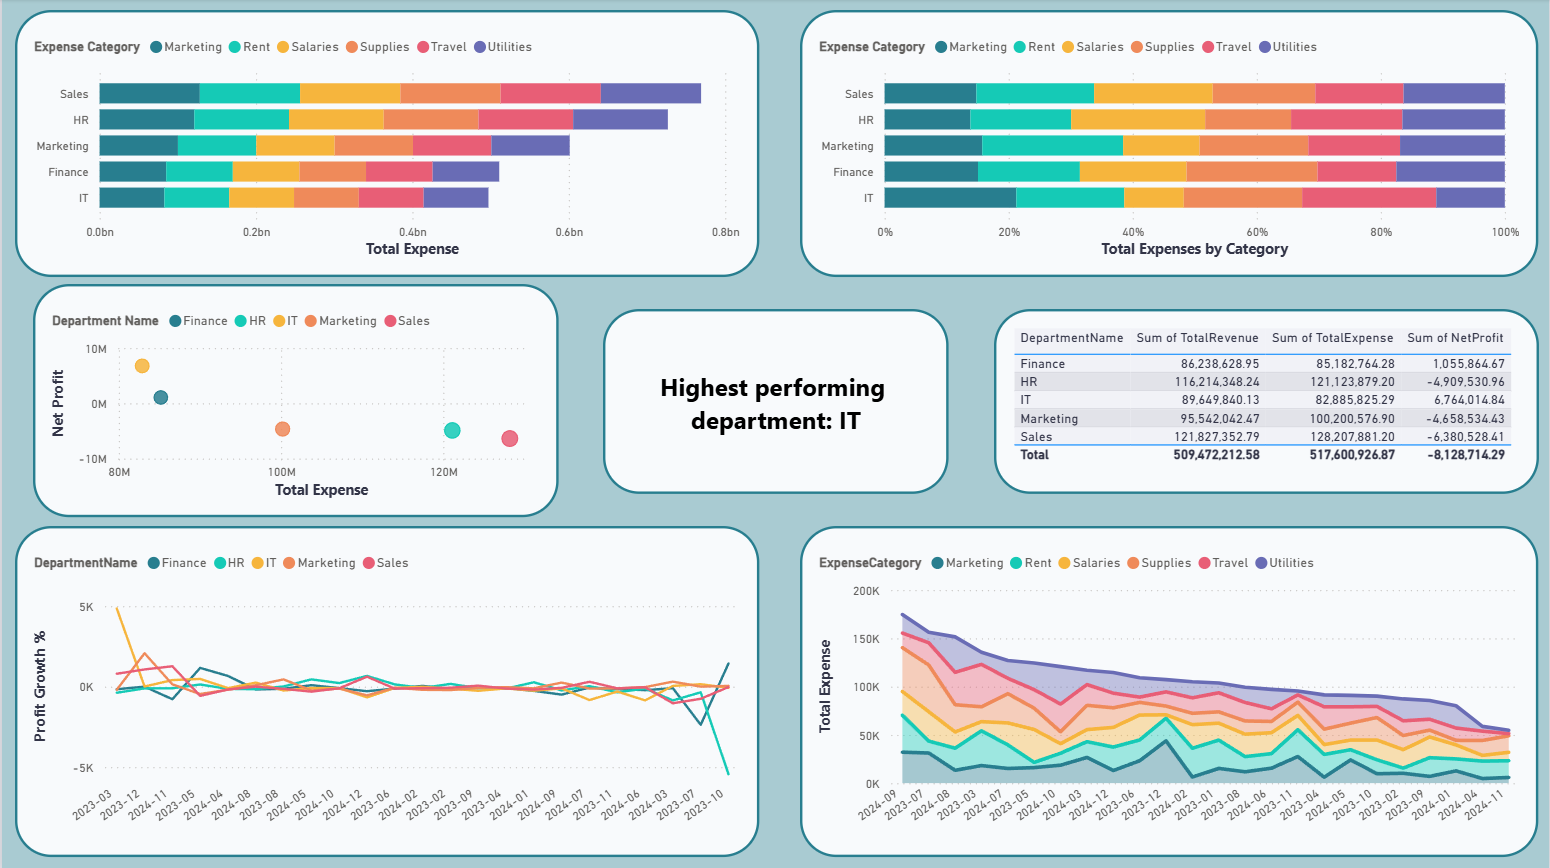

What the dashboard file says about the page in this screenshot:
{"tool":"powerbi","page":{"name":"Page 2","canvas":[1280,720],"ordinal":1},"visuals":[{"type":"barChart","fields":{"Y":["vw_DepartmentSummary.Total Expense"],"Category":["vw_DepartmentSummary.DepartmentName"],"Series":["expenses.ExpenseCategory"]},"box":[10.6,8.8,615.7,220.8],"z":0},{"type":"scatterChart","fields":{"X":["Sum(vw_DepartmentSummary.TotalExpense)"],"Y":["Sum(vw_DepartmentSummary.NetProfit)"],"Size":["Sum(vw_DepartmentSummary.TotalRevenue)"],"Series":["vw_DepartmentSummary.DepartmentName"]},"box":[25.6,235.9,434.6,193.5],"z":2000},{"type":"hundredPercentStackedBarChart","fields":{"Category":["vw_DepartmentExpenses.DepartmentName"],"Series":["vw_DepartmentExpenses.ExpenseCategory"],"Y":["Sum(vw_DepartmentExpenses.TotalExpense)"]},"box":[660.8,8.8,611.3,220.8],"z":3000},{"type":"lineChart","fields":{"Category":["vw_ProfitGrowth.YearMonth"],"Series":["vw_ProfitGrowth.DepartmentName"],"Y":["Sum(vw_ProfitGrowth.ProfitGrowthPercent)"]},"box":[10.6,436.4,615.7,273.8],"z":4000},{"type":"stackedAreaChart","fields":{"Category":["vw_ExpenseTrends.YearMonth"],"Series":["vw_ExpenseTrends.ExpenseCategory"],"Y":["Sum(vw_ExpenseTrends.TotalExpense)"]},"box":[660.8,436.4,611.3,273.8],"z":4001},{"type":"tableEx","fields":{"Values":["vw_DepartmentSummary.DepartmentName","Sum(vw_DepartmentSummary.TotalRevenue)","Sum(vw_DepartmentSummary.TotalExpense)","Sum(vw_DepartmentSummary.NetProfit)"]},"box":[820.6,256.2,451.4,152.8],"z":4002},{"type":"card","fields":{"Values":["vw_DepartmentSummary.Insight Text"]},"box":[497.3,256.2,286.2,152.8],"z":4003}]}

Visuals, with their boxes in screenshot pixels (x1, y1, x2, y2), scaled from the page's 1280x720 canvas onto the 1550x868 screenshot:
barChart - vw_DepartmentSummary.Total Expense x vw_DepartmentSummary.DepartmentName: box(13, 11, 758, 277)
scatterChart - Sum(vw_DepartmentSummary.TotalExpense) x Sum(vw_DepartmentSummary.NetProfit): box(31, 284, 557, 518)
hundredPercentStackedBarChart - vw_DepartmentExpenses.DepartmentName x vw_DepartmentExpenses.ExpenseCategory: box(800, 11, 1540, 277)
lineChart - vw_ProfitGrowth.YearMonth x vw_ProfitGrowth.DepartmentName: box(13, 526, 758, 856)
stackedAreaChart - vw_ExpenseTrends.YearMonth x vw_ExpenseTrends.ExpenseCategory: box(800, 526, 1540, 856)
tableEx - vw_DepartmentSummary.DepartmentName x Sum(vw_DepartmentSummary.TotalRevenue): box(994, 309, 1540, 493)
card - vw_DepartmentSummary.Insight Text: box(602, 309, 949, 493)
